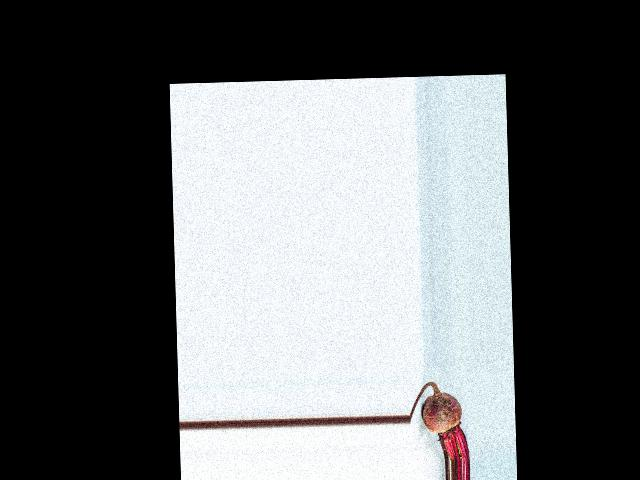beet: (409, 380, 469, 462)
